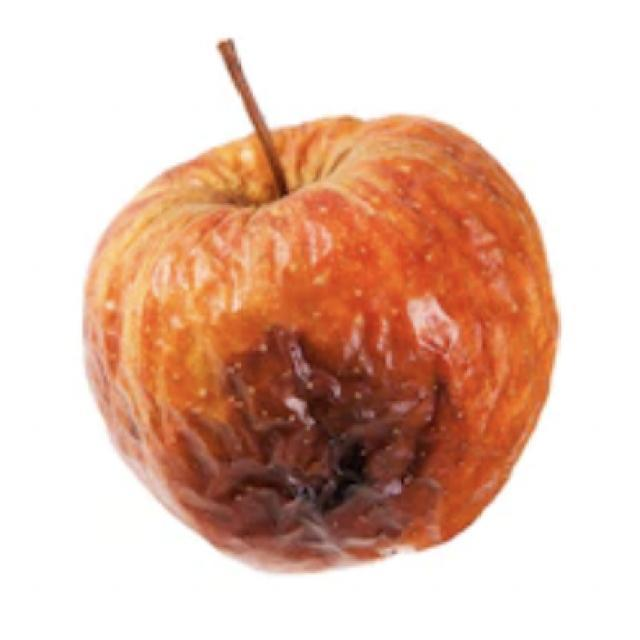Rotten: (76, 110, 562, 560)
